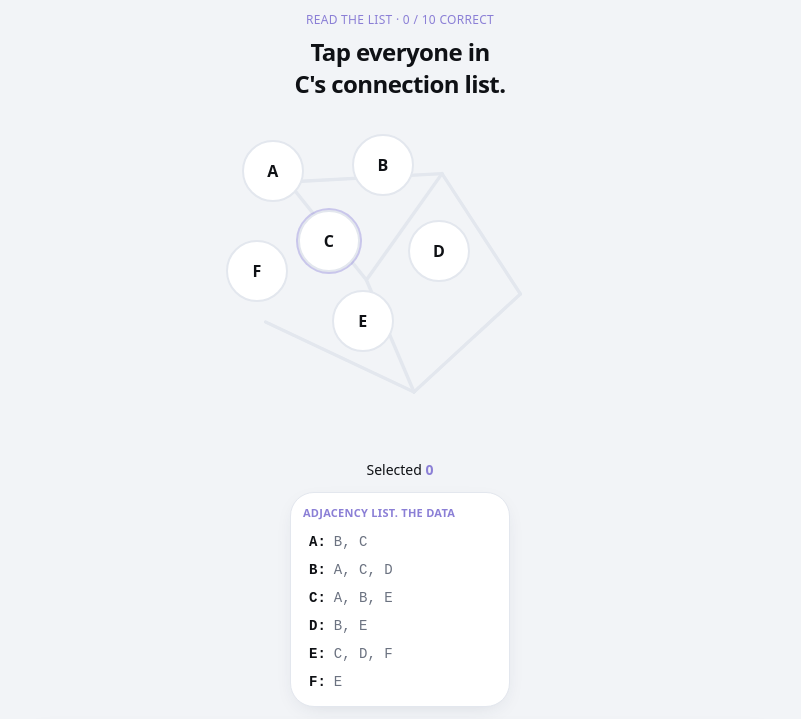
Test: read-list (multi-select) › toggling a node off removes it from the selection
Step 1. Click the button "A" → [273, 171], box [242,140,304,202]
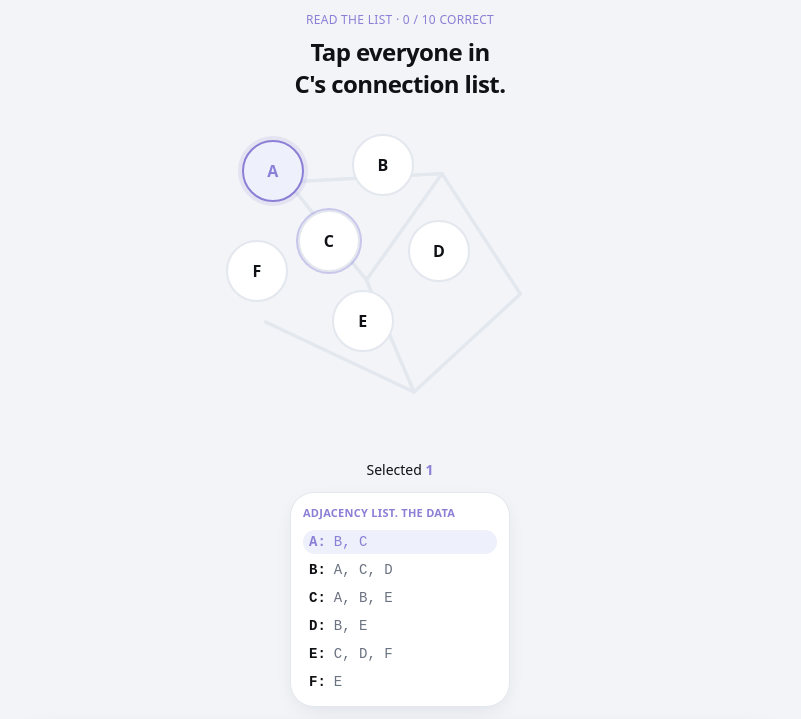
Step 2. Click the button "A" → [273, 171], box [242,140,304,202]
(page scrolled)
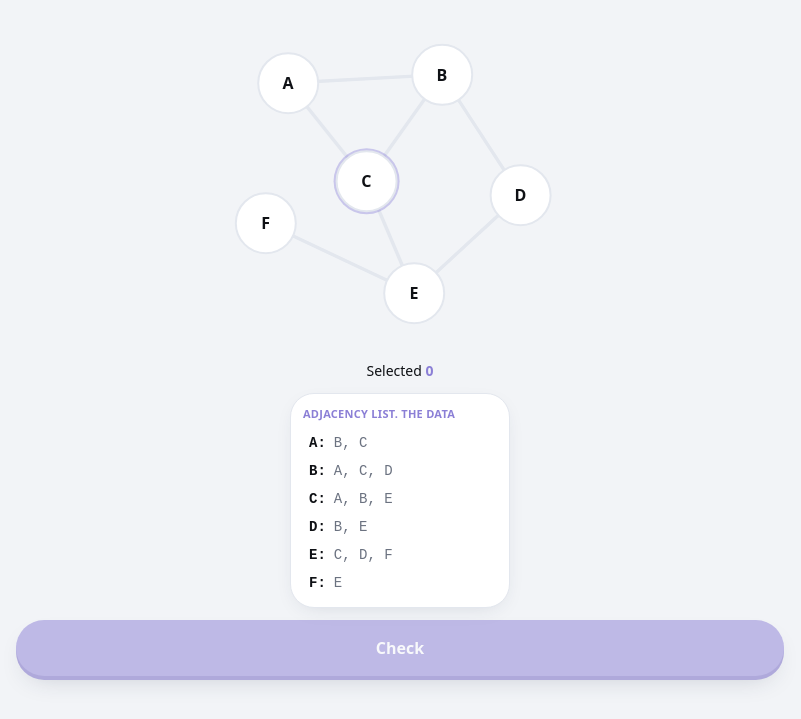
Check: the button "Check" is disabled, box [16,620,784,676]
